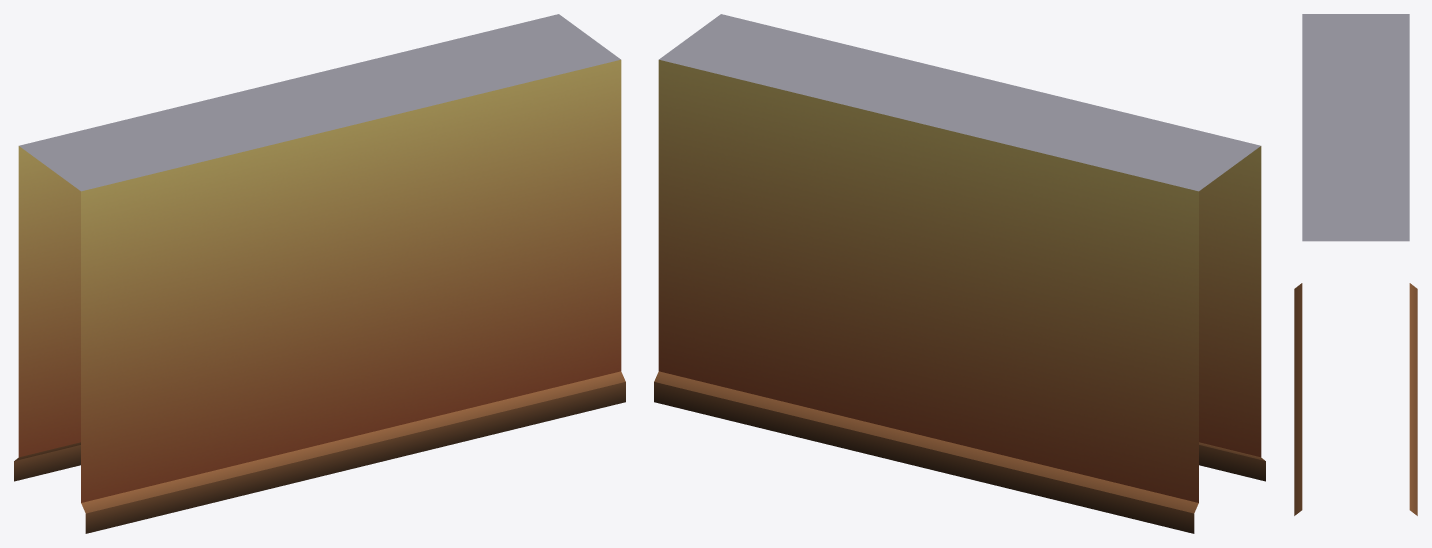
Rendered from wall_brown.fbx.
3 renders of one model, left to right at view 1: azimuth 30°, elevation 25°; view 2: azimuth 150°, elevation 25°; view 3: azimuth 270°, elevation 25°, orthographic. The views are drawn at different scales.
Parts seen in each view (by area): view 1: SM_wall_light_brown; view 2: SM_wall_light_brown; view 3: SM_wall_light_brown.
Part boxes in pixels (<box>): SM_wall_light_brown: <box>14,14,625,533</box>; SM_wall_light_brown: <box>654,14,1265,533</box>; SM_wall_light_brown: <box>1294,14,1417,515</box>.
Bounding box in the file's own units: 500 × 300 × 115.
